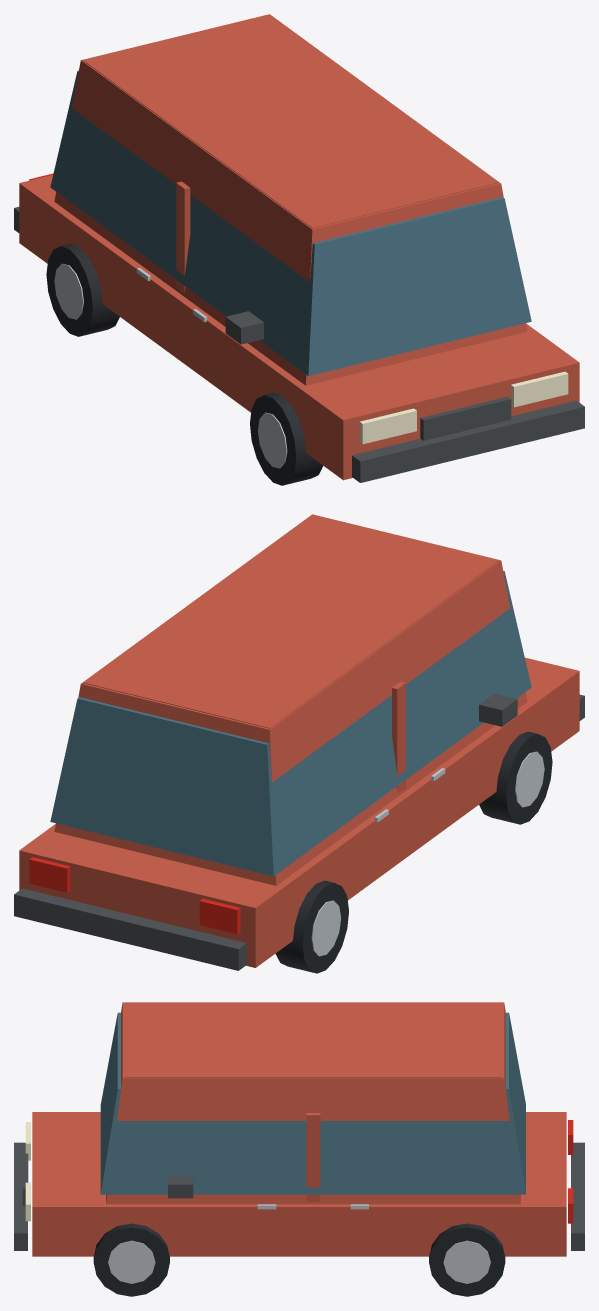
The model's file is van.glb.
The picture shows the model from 3 angles, top to bottom: view 1: azimuth 30°, elevation 25°; view 2: azimuth 150°, elevation 25°; view 3: azimuth 270°, elevation 25°; orthographic projection. The views are drawn at different scales.
Parts seen in each view (by area): view 1: Body, Windows, FrontBumper, WheelRearL, WheelFrontL, Headlights, Grille, Mirrors; view 2: Body, Windows, RearBumper, WheelFrontL, WheelRearL, TailLights, Mirrors; view 3: Body, Windows, WheelFrontR, WheelRearR, RearBumper, FrontBumper, Mirrors, Headlights, TailLights.
Part boxes in pixels (x1,y1,x2,y2): Body: [19, 14, 579, 480]; Windows: [50, 70, 531, 375]; FrontBumper: [352, 400, 584, 482]; WheelRearL: [46, 243, 119, 336]; WheelFrontL: [250, 392, 322, 485]; Headlights: [359, 371, 568, 444]; Grille: [420, 396, 511, 440]; Mirrors: [225, 311, 263, 344]; Body: [19, 514, 579, 967]; Windows: [50, 571, 531, 876]; RearBumper: [14, 888, 246, 970]; WheelFrontL: [479, 731, 552, 824]; WheelRearL: [275, 880, 348, 973]; TailLights: [29, 857, 240, 934]; Mirrors: [479, 693, 517, 726]; Body: [32, 1002, 566, 1256]; Windows: [100, 1012, 525, 1194]; WheelFrontR: [93, 1223, 169, 1296]; WheelRearR: [429, 1223, 505, 1296]; RearBumper: [571, 1142, 584, 1250]; FrontBumper: [14, 1142, 27, 1250]; Mirrors: [168, 1175, 193, 1198]; Headlights: [25, 1122, 30, 1221]; TailLights: [568, 1120, 573, 1223].
Size of the model in its own units: 2.27 by 1.96 by 4.92.
